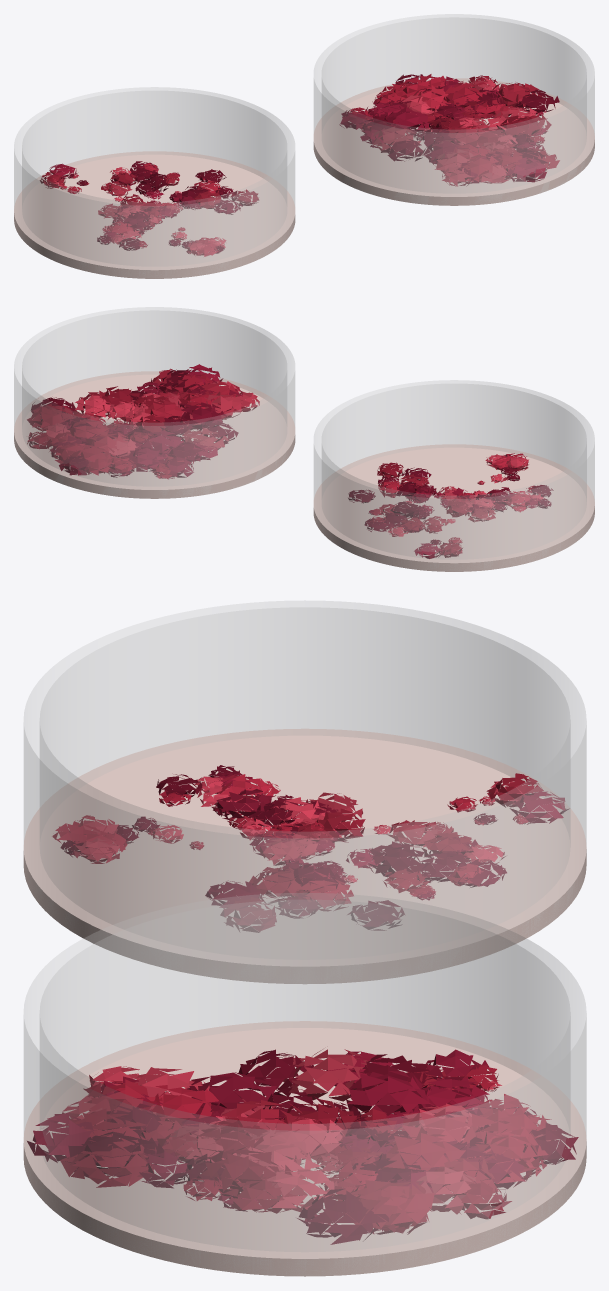
File: inert&bioactive.glb
The picture shows the model from 3 angles, top to bottom: view 1: azimuth 30°, elevation 25°; view 2: azimuth 150°, elevation 25°; view 3: azimuth 270°, elevation 25°; orthographic projection. The views are drawn at different scales.
Visible parts, largest first — view 1: dish_wall_31d, dish_wall_14d, dish_wall_inner_14d, dish_wall_inner_31d, stained_floor_14d, mineralized_nodules_31d, stained_floor_31d, mineralized_nodules_14d; view 2: dish_wall_31d, dish_wall_14d, dish_wall_inner_14d, dish_wall_inner_31d, stained_floor_14d, mineralized_nodules_31d, stained_floor_31d, mineralized_nodules_14d; view 3: dish_wall_31d, dish_wall_inner_31d, dish_wall_14d, dish_wall_inner_14d, stained_floor_14d, mineralized_nodules_31d, stained_floor_31d, mineralized_nodules_14d.
Boxes of the visible parts, bbox=[...] form: dish_wall_31d: bbox=[313, 14, 594, 204]; dish_wall_14d: bbox=[14, 87, 295, 277]; dish_wall_inner_14d: bbox=[22, 91, 287, 265]; dish_wall_inner_31d: bbox=[321, 17, 586, 192]; stained_floor_14d: bbox=[14, 151, 295, 278]; mineralized_nodules_31d: bbox=[339, 74, 559, 186]; stained_floor_31d: bbox=[313, 78, 594, 205]; mineralized_nodules_14d: bbox=[39, 161, 258, 256]; dish_wall_31d: bbox=[14, 307, 295, 497]; dish_wall_14d: bbox=[313, 380, 594, 569]; dish_wall_inner_14d: bbox=[321, 384, 586, 558]; dish_wall_inner_31d: bbox=[22, 310, 287, 485]; stained_floor_14d: bbox=[313, 444, 594, 571]; mineralized_nodules_31d: bbox=[27, 364, 259, 479]; stained_floor_31d: bbox=[14, 371, 295, 498]; mineralized_nodules_14d: bbox=[348, 453, 553, 558]; dish_wall_31d: bbox=[23, 893, 586, 1273]; dish_wall_inner_31d: bbox=[39, 900, 570, 1251]; dish_wall_14d: bbox=[23, 600, 586, 936]; dish_wall_inner_14d: bbox=[39, 607, 570, 924]; stained_floor_14d: bbox=[23, 728, 586, 984]; mineralized_nodules_31d: bbox=[27, 1049, 578, 1244]; stained_floor_31d: bbox=[23, 1021, 586, 1276]; mineralized_nodules_14d: bbox=[52, 765, 568, 932].
Size of the model in its own units: 0.078 by 0.01 by 0.0351.
